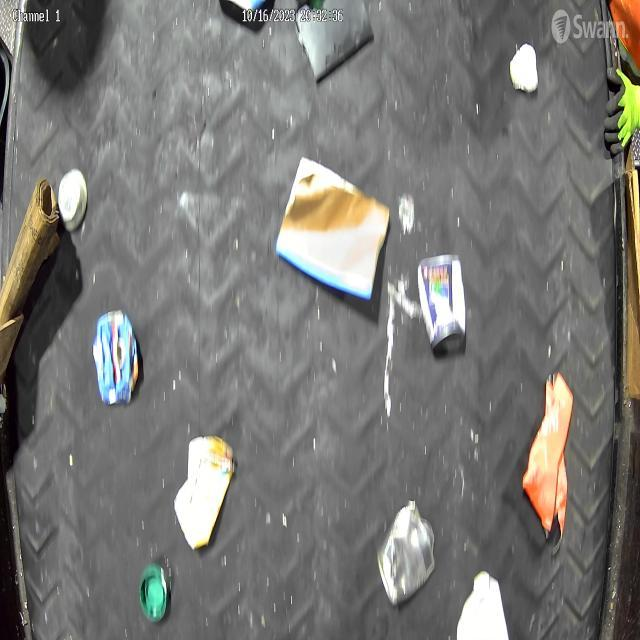can: (378, 498, 436, 608), (417, 252, 468, 358)
